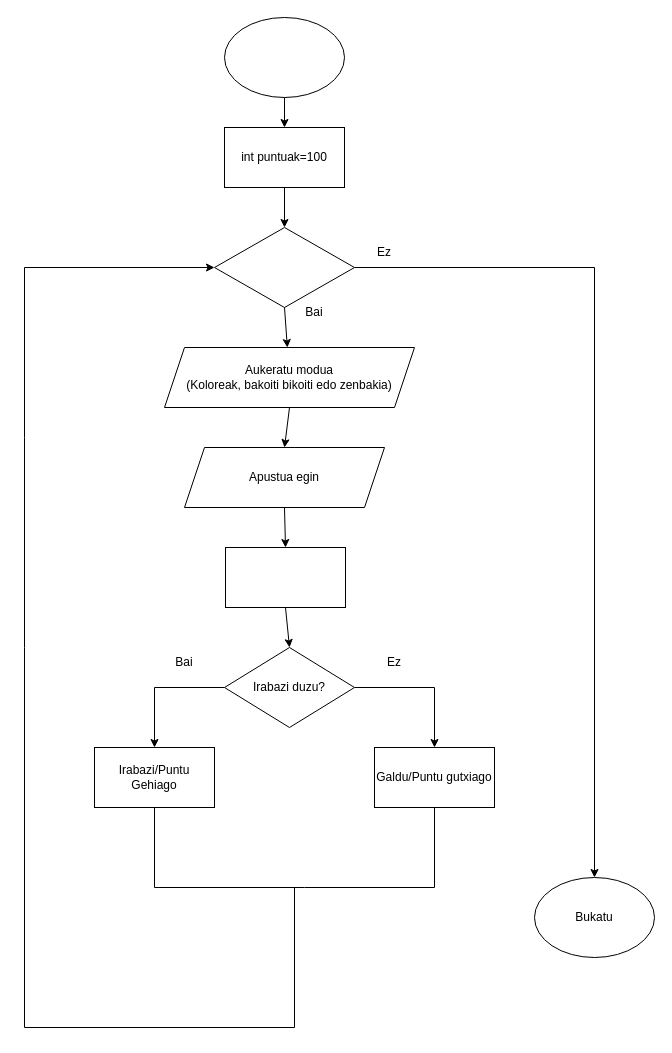
Image size: 672x1053. Some labels were removed from this diagram. The box of each missing label's shape, as (x1, y1, x2, y2) in pixels:
Gira ruleta(zenbaki aleatorioa): (224, 546, 346, 608)
Hasi: (224, 16, 344, 98)
puntuak >0?: (214, 226, 354, 308)
